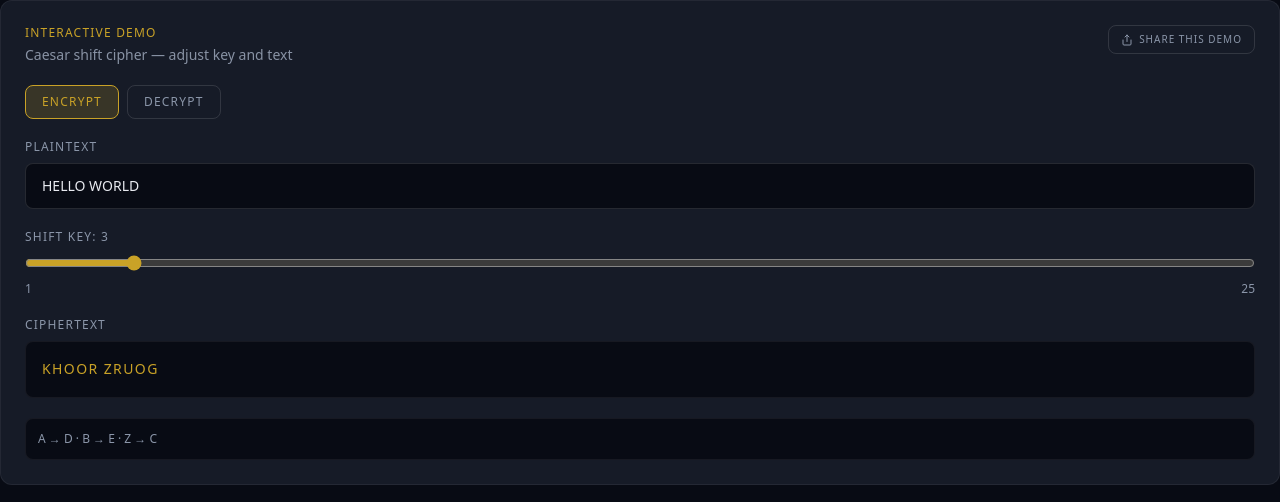
Test: CaesarDemo › updates output when input changes
The width and height of the screenshot is (1280, 502).
Replace the text in the field with test id "caesar-input" with "ABC" at (640, 186), box x1=25 y1=163 x2=1255 y2=209
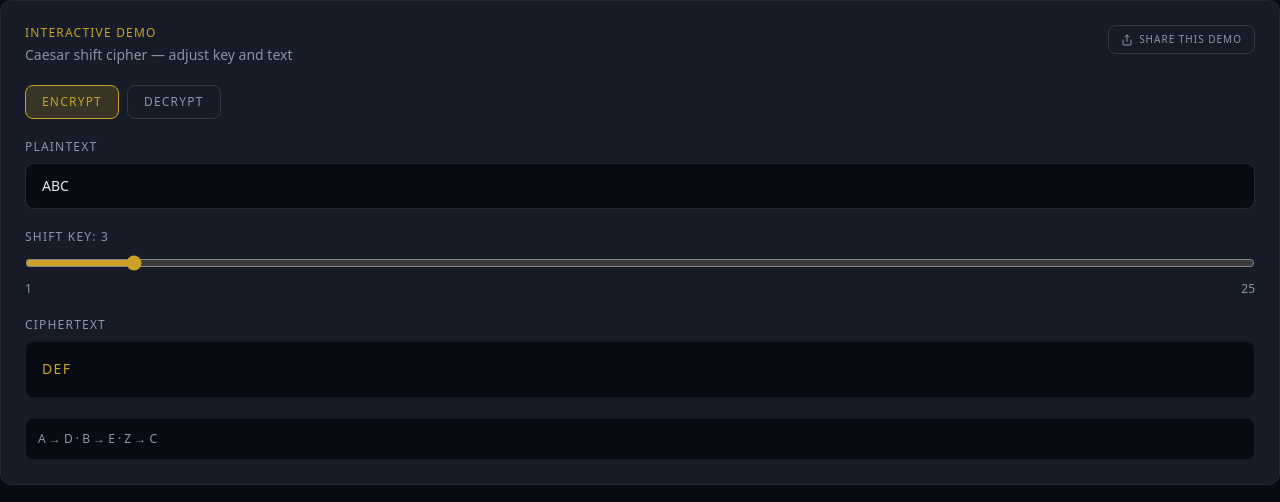
Now the message with test id "caesar-output" reads "DEF", box x1=42 y1=359 x2=72 y2=378
